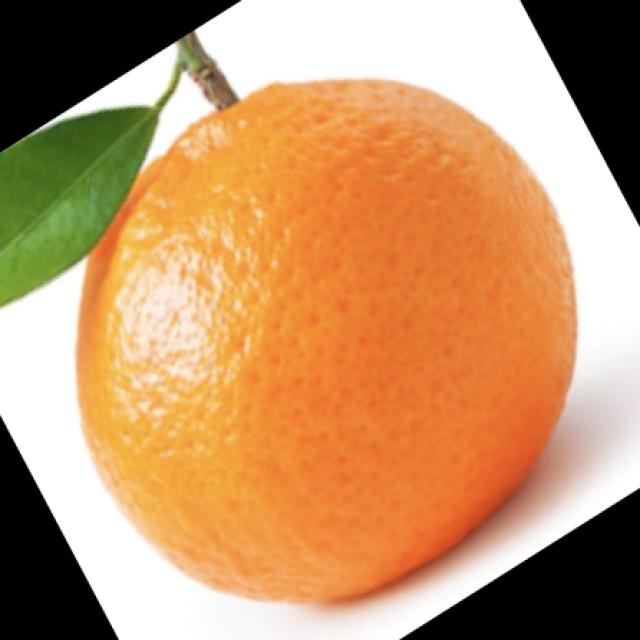matang: (82, 81, 576, 592)
